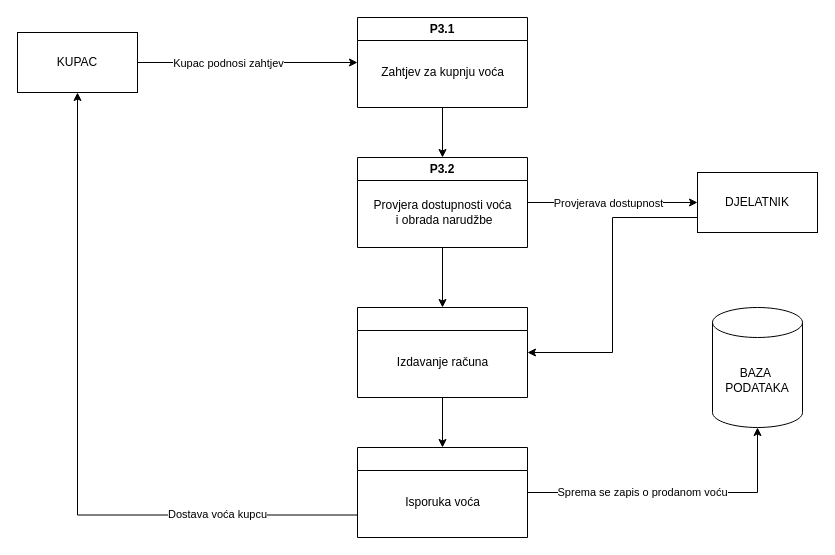
Image size: 835x555. Some labels were removed from this diagram. Each missing label, with the box of its shape:
P3.3: (356, 306, 528, 398)
P3.4: (356, 446, 528, 538)
